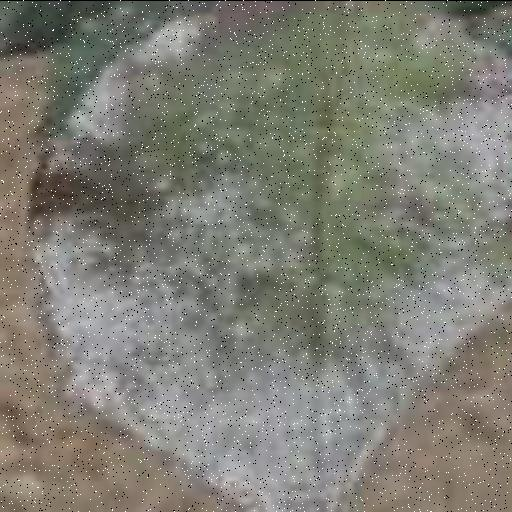powdery_mildew: (32, 0, 512, 512)
